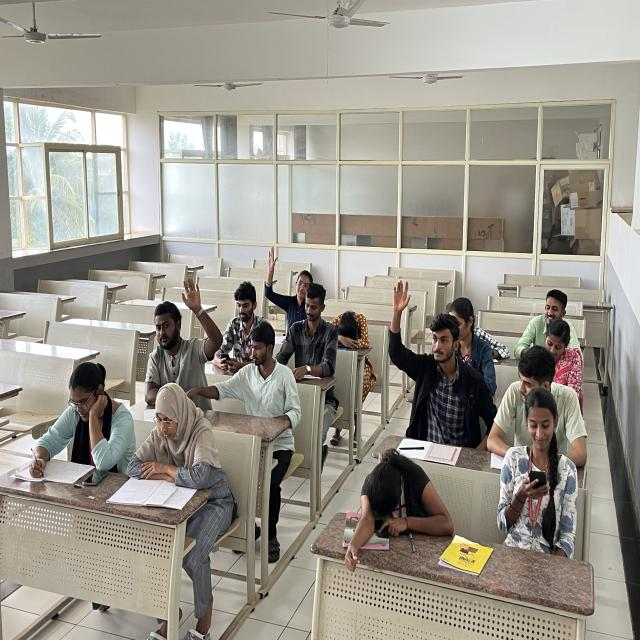Hand Rising: (378, 276, 488, 442), (138, 274, 222, 398), (261, 242, 309, 330)
Reading: (114, 385, 225, 521)
Sleeping: (341, 438, 455, 573), (328, 289, 376, 385)
Using Phone: (497, 387, 579, 549), (216, 274, 262, 382)
Writing: (26, 358, 137, 496), (280, 281, 342, 393), (530, 315, 588, 401)
